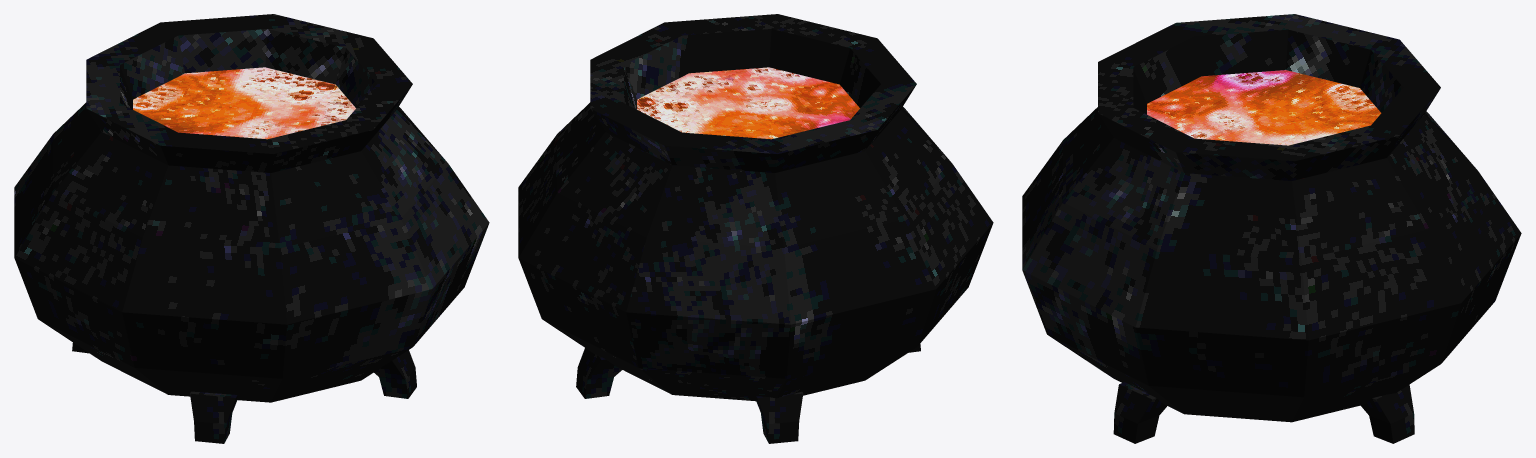
Rendered from red_cauldron.glb.
The picture shows the model from 3 angles, left to right: view 1: azimuth 30°, elevation 25°; view 2: azimuth 150°, elevation 25°; view 3: azimuth 270°, elevation 25°; orthographic projection. The views are drawn at different scales.
Visible parts, largest first — view 1: Cylinder; view 2: Cylinder; view 3: Cylinder.
Part boxes in pixels (<box>): Cylinder: <box>14,14,489,443</box>; Cylinder: <box>518,14,993,443</box>; Cylinder: <box>1022,14,1521,443</box>.
Bounding box in the file's own units: 3.17 × 2.07 × 3.12.
Materials: 1 (1 with a texture image).
